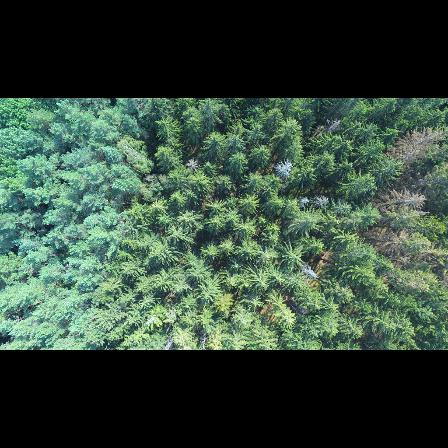Dead: (272, 156, 294, 182), (296, 266, 322, 282), (309, 194, 330, 206), (297, 193, 309, 207)
